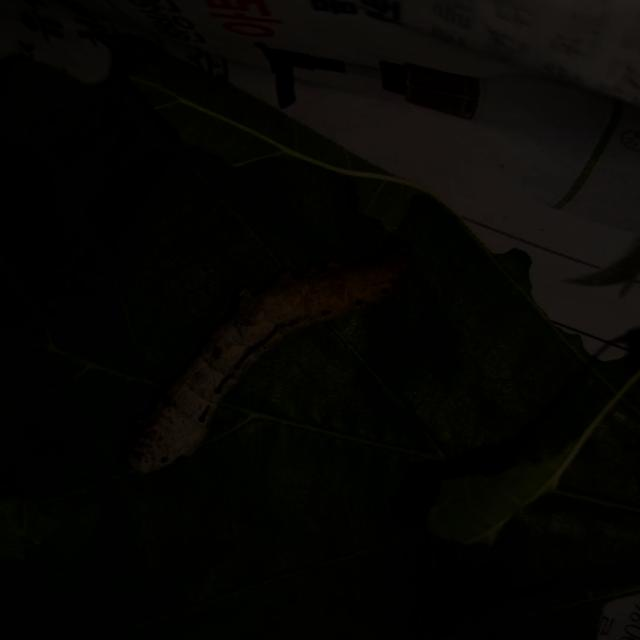Grasserie: (102, 193, 436, 530)
